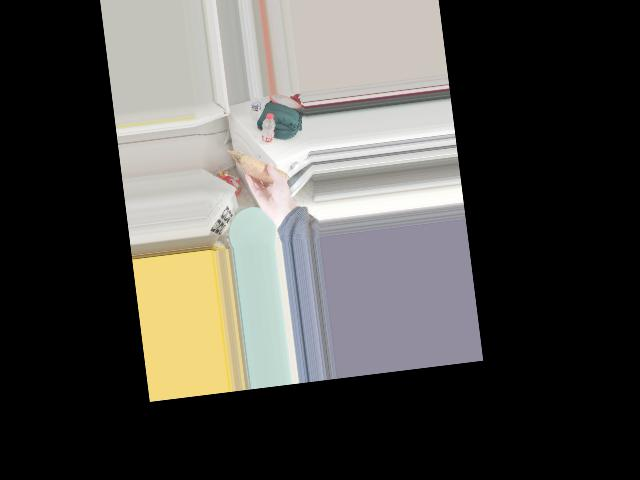sweet_potato: (243, 151, 279, 186)
